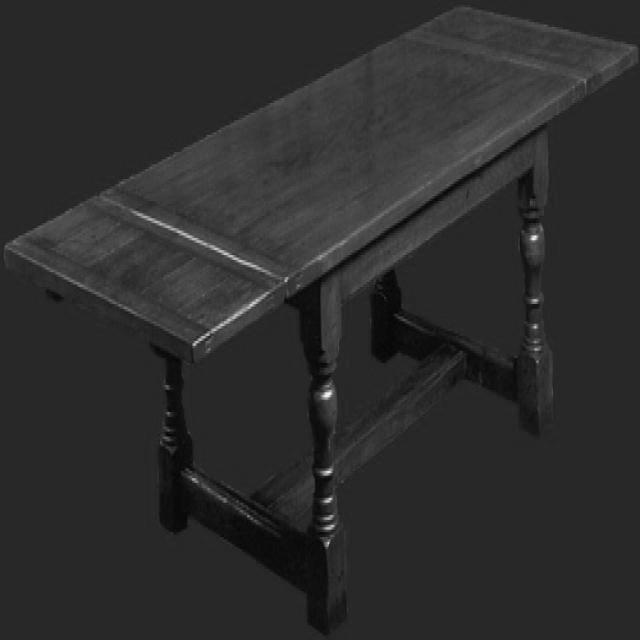table: (5, 0, 639, 632)
